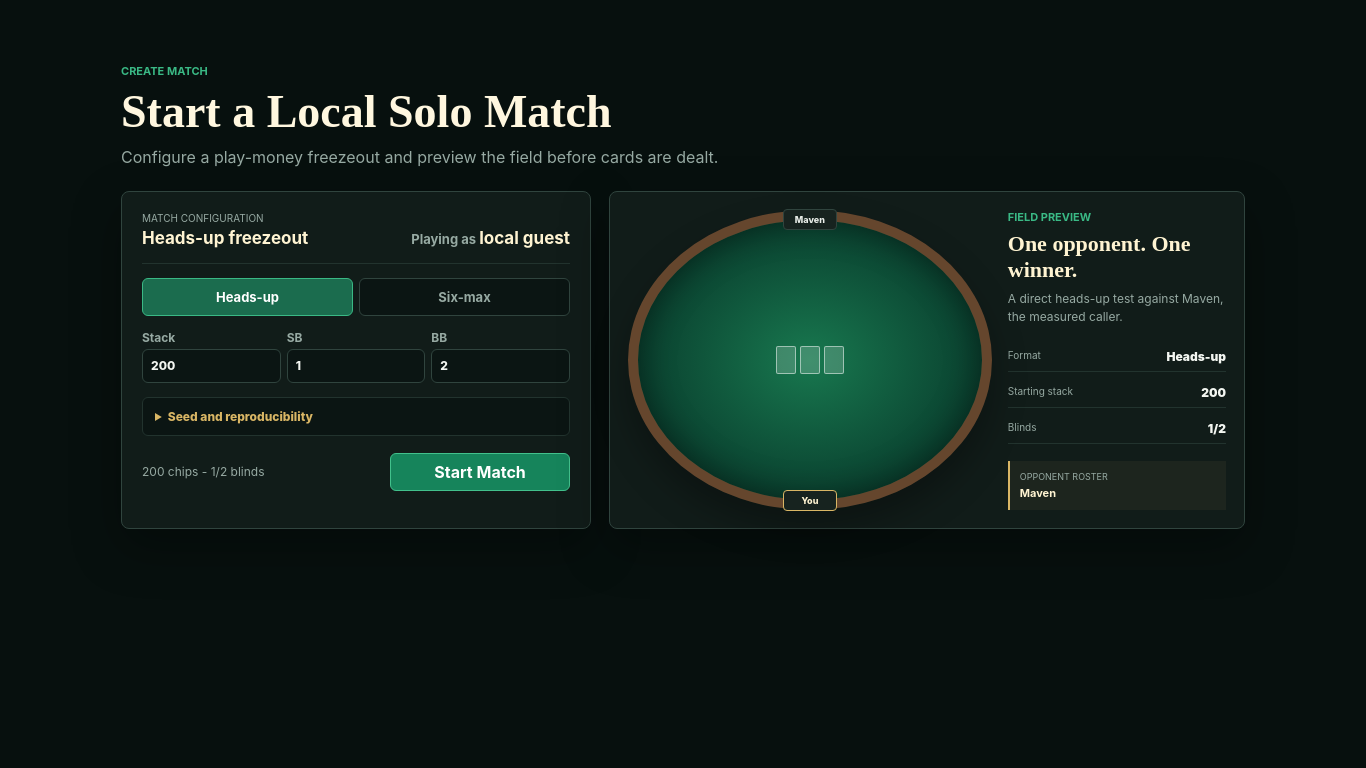
Test case: PokerTable › starts a playable heads-up match after explicit setup submission
This screenshot has width=1366, height=768.
Click the button "Start Match". click: point(480, 472)
box: top-left (390, 453), bottom-right (570, 491)
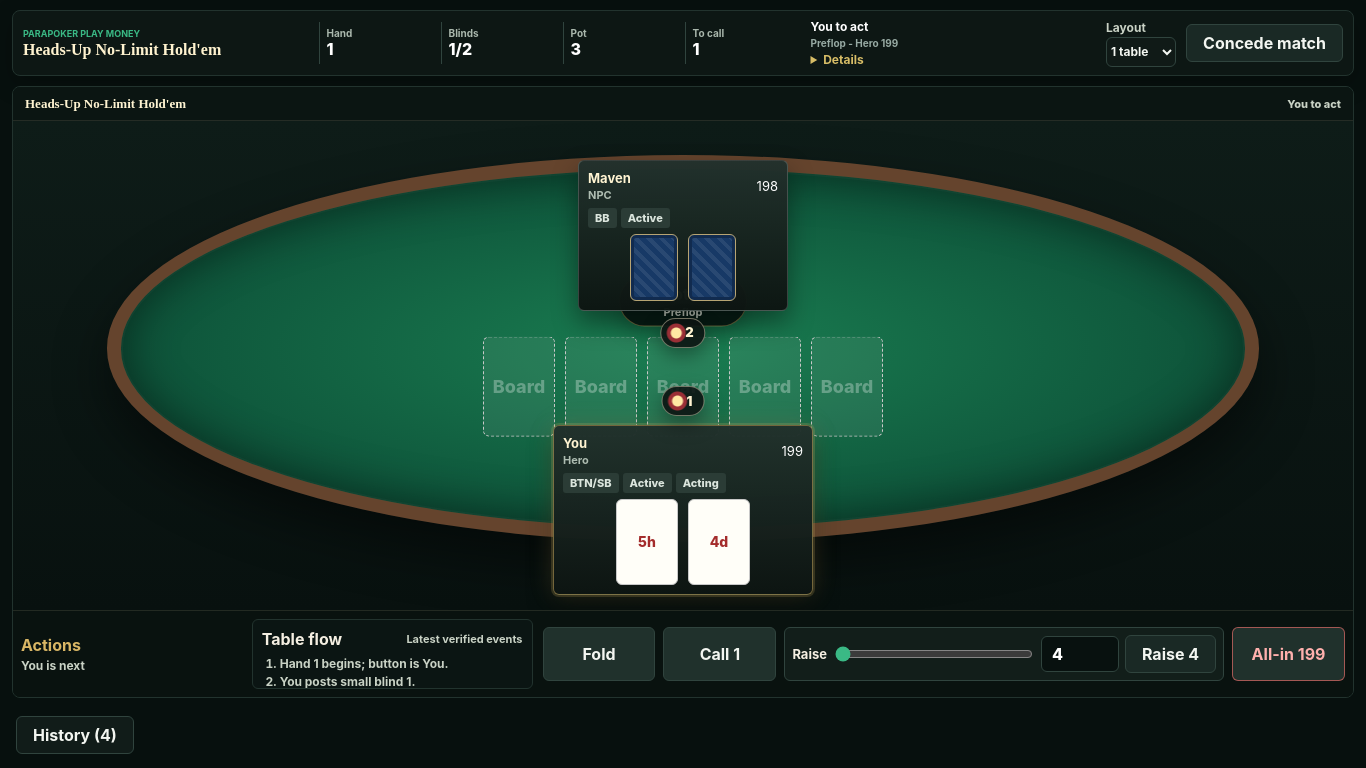
Expected: the text "Heads-Up No-Limit Hold'em" below "ParaPoker Play Money" is shown, top-left (23, 40), bottom-right (221, 58)
Expected: the button "Call 1" is shown, top-left (664, 627), bottom-right (776, 681)
Expected: the element named "Poker table" is shown
